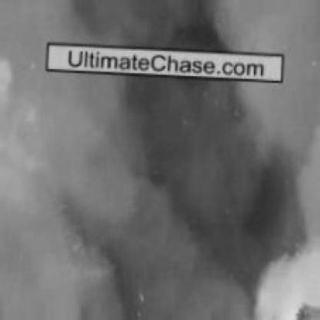Smoke: (10, 6, 297, 308)
